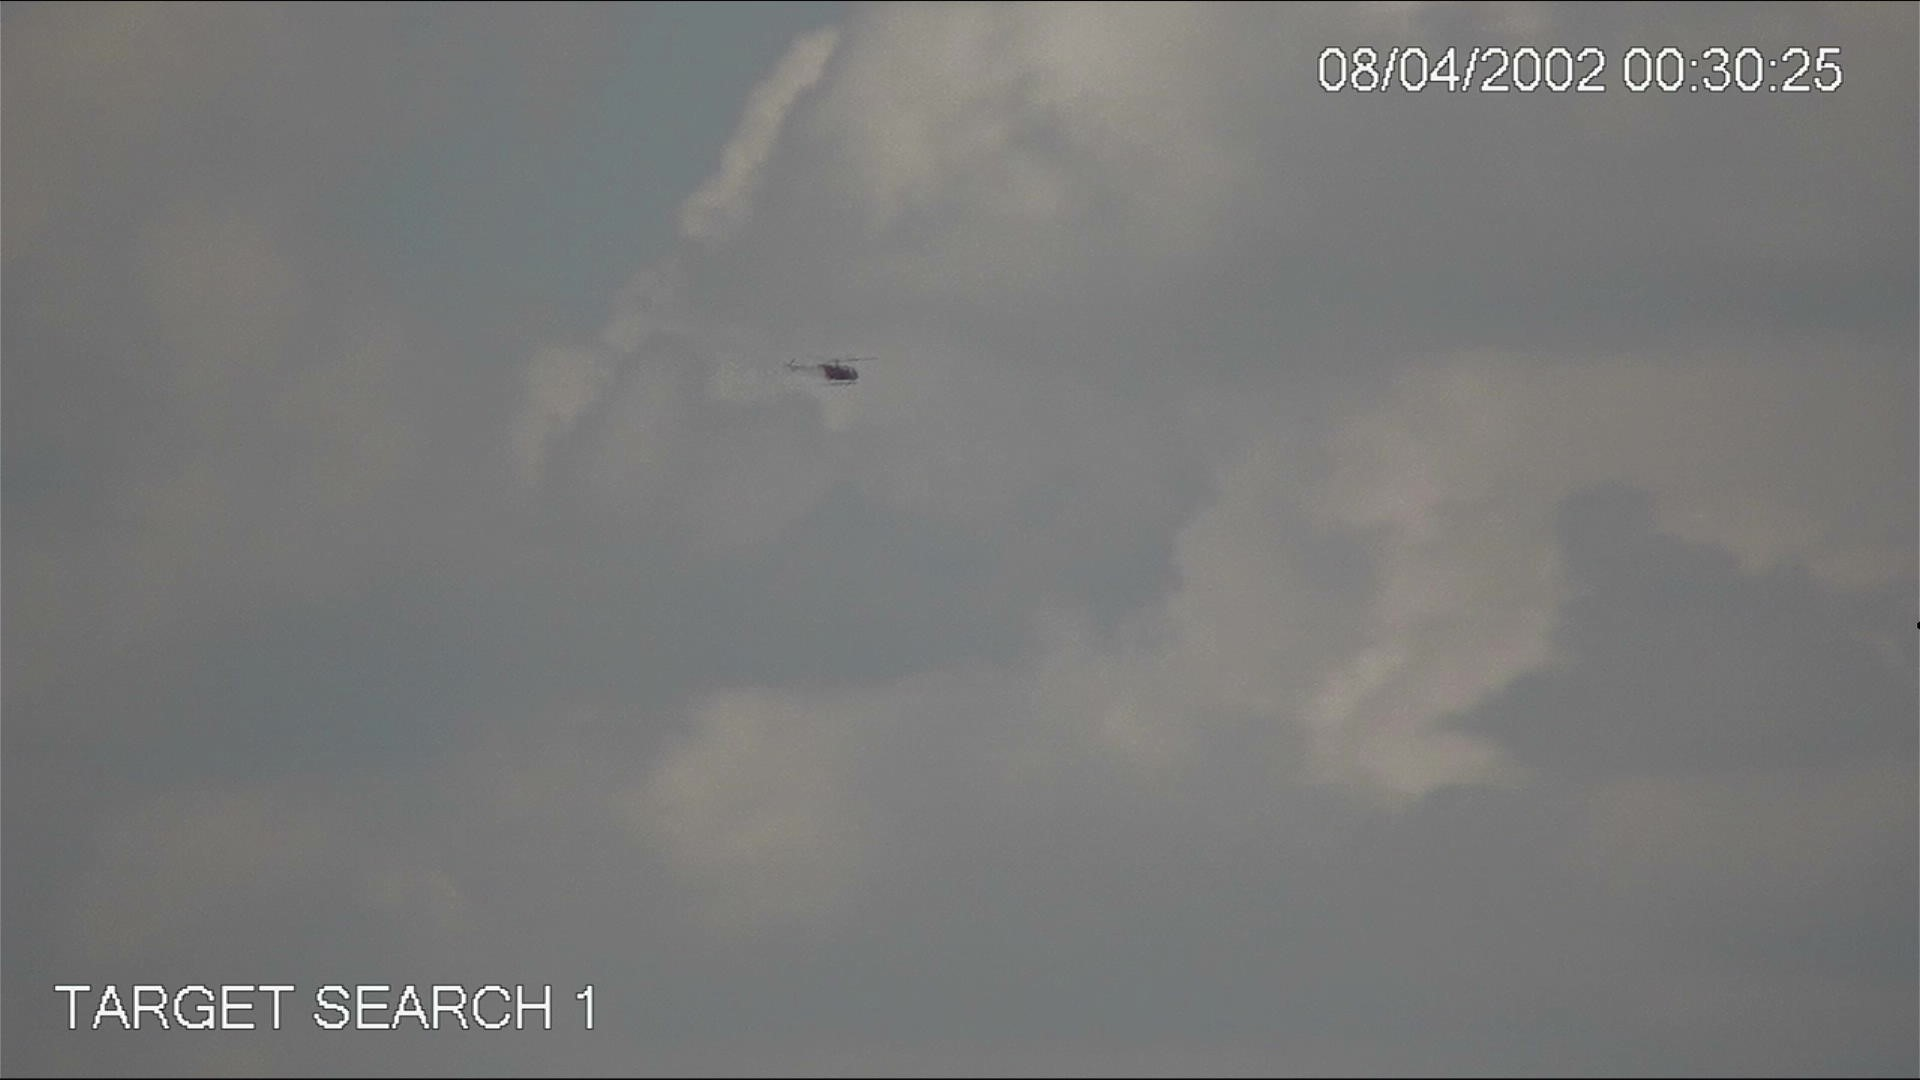SU_30: (785, 353, 876, 386)
